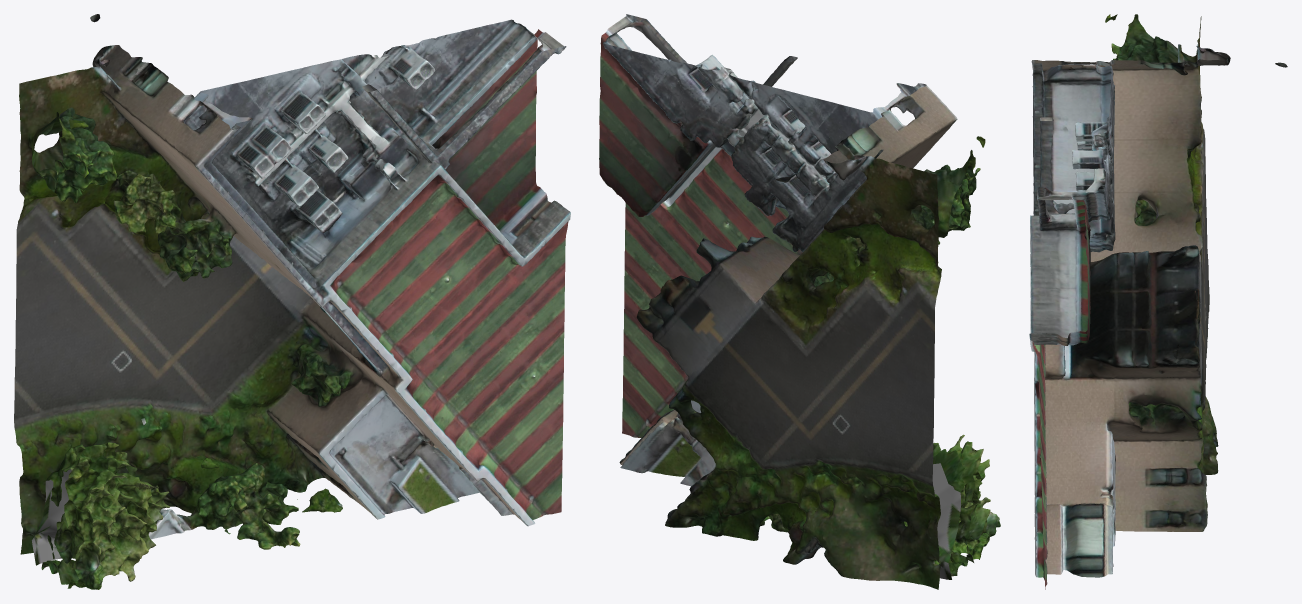
The model's file is Tile_+012_+016.fbx.
3 renders of one model, left to right at view 1: azimuth 30°, elevation 25°; view 2: azimuth 150°, elevation 25°; view 3: azimuth 270°, elevation 25°, orthographic. The views are drawn at different scales.
Visible parts, largest first — view 1: DefaultName; view 2: DefaultName; view 3: DefaultName.
Boxes of the visible parts, left/top/right/bottom form: DefaultName: left=14, top=14, right=570, bottom=589; DefaultName: left=599, top=14, right=1000, bottom=589; DefaultName: left=1029, top=14, right=1287, bottom=589.
Bounding box in the file's own units: 22.54 × 22.54 × 13.43.
